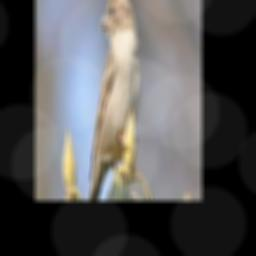Sparrow: (88, 0, 141, 200)
